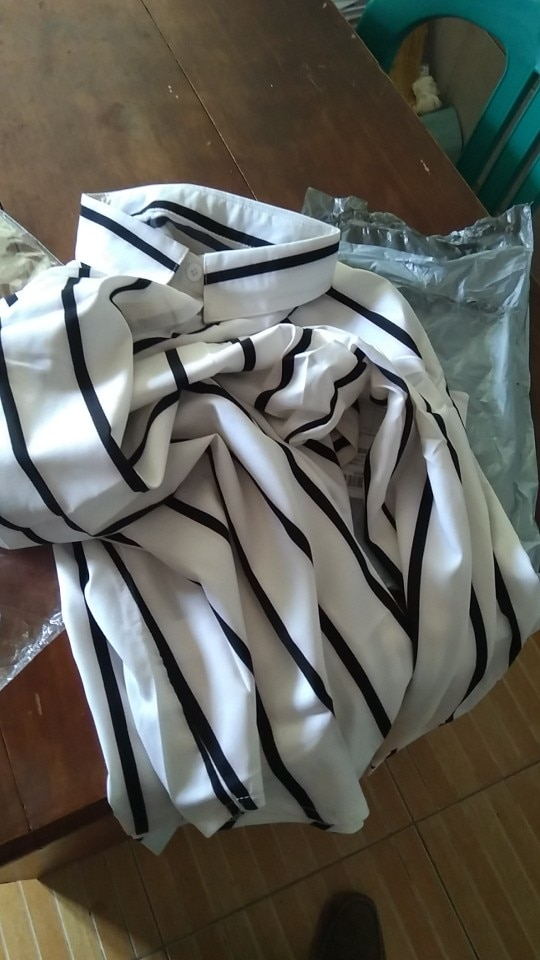shirts: (55, 190, 505, 825)
